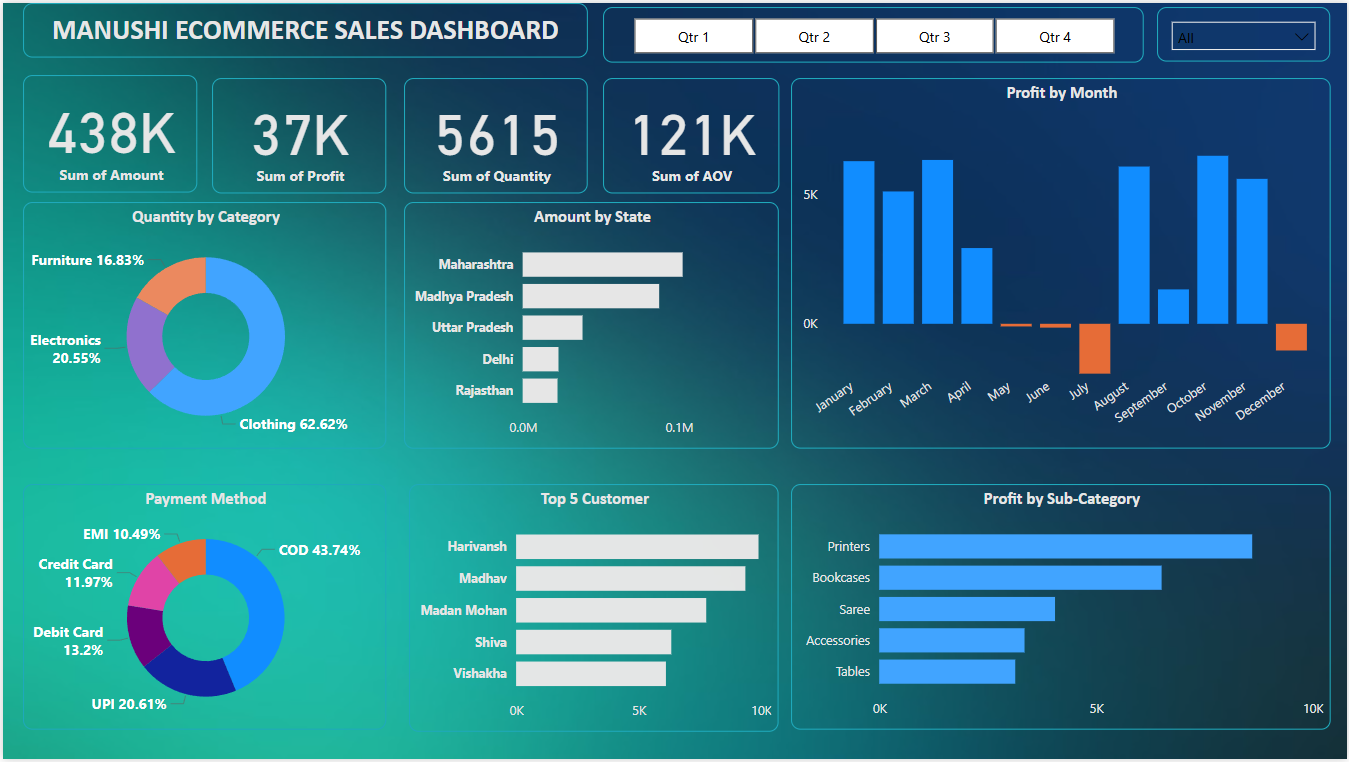

Layout of this report page (visuals, bound fields, positions):
{"tool":"powerbi","page":{"name":"Page 1","canvas":[1280,720],"ordinal":0},"visuals":[{"type":"textbox","box":[19.3,0,537.9,51.9],"z":0},{"type":"columnChart","title":"Profit by Month","fields":{"Category":["Orders1.Order Date.Variation.Date Hierarchy.Month"],"Y":["Details.Profit"]},"box":[750.2,71.2,513.8,353.4],"z":1000},{"type":"barChart","title":"Profit by Sub-Category","fields":{"Category":["Details.Sub-Category"],"Y":["Details.Profit"]},"box":[750.2,458.3,513.8,234],"z":2000},{"type":"donutChart","title":"Quantity by Category","fields":{"Category":["Details.Category"],"Y":["Details.Quantity"]},"box":[19.3,189.3,346.1,235.2],"z":3000},{"type":"donutChart","title":"Payment Method","fields":{"Category":["Details.PaymentMode"],"Y":["Details.Quantity"]},"box":[19.3,458.3,346.1,234],"z":4000},{"type":"card","fields":{"Values":["Details.Amount"]},"box":[19.3,68.7,166.4,112.2],"z":5000},{"type":"card","fields":{"Values":["Details.Quantity"]},"box":[382.3,71.2,174.9,109.7],"z":6000},{"type":"card","fields":{"Values":["Details.AOV"]},"box":[571.7,71.2,167.6,109.7],"z":7000},{"type":"card","fields":{"Values":["Details.Profit"]},"box":[199,71.2,166.4,109.7],"z":8000},{"type":"barChart","title":"Amount by State","fields":{"Category":["Orders1.State"],"Y":["Details.Amount"]},"box":[382.3,189.3,357,235.2],"z":9000},{"type":"barChart","title":"Top 5 Customer","fields":{"Category":["Orders1.CustomerName"],"Y":["Details.Amount"]},"box":[387.1,458.3,352.2,236.4],"z":10000},{"type":"slicer","fields":{"Values":["Orders1.Order Date.Variation.Date Hierarchy.Quarter"]},"box":[571.7,3.6,515,53.1],"z":11000},{"type":"slicer","fields":{"Values":["Orders1.State"]},"box":[1099.1,4.1,164.7,52.1],"z":12000}]}

Visuals, with their boxes in screenshot pixels (x1, y1, x2, y2), scaled from the page's 1280x720 canvas onto the 1349x762 screenshot:
textbox: bbox=[20, 0, 587, 55]
"Profit by Month" columnChart: bbox=[791, 75, 1332, 449]
"Profit by Sub-Category" barChart: bbox=[791, 485, 1332, 733]
"Quantity by Category" donutChart: bbox=[20, 200, 385, 449]
"Payment Method" donutChart: bbox=[20, 485, 385, 733]
card - Details.Amount: bbox=[20, 73, 196, 191]
card - Details.Quantity: bbox=[403, 75, 587, 191]
card - Details.AOV: bbox=[603, 75, 779, 191]
card - Details.Profit: bbox=[210, 75, 385, 191]
"Amount by State" barChart: bbox=[403, 200, 779, 449]
"Top 5 Customer" barChart: bbox=[408, 485, 779, 735]
slicer - Orders1.Order Date.Variation.Date Hierarchy.Quarter: bbox=[603, 4, 1145, 60]
slicer - Orders1.State: bbox=[1158, 4, 1332, 59]
